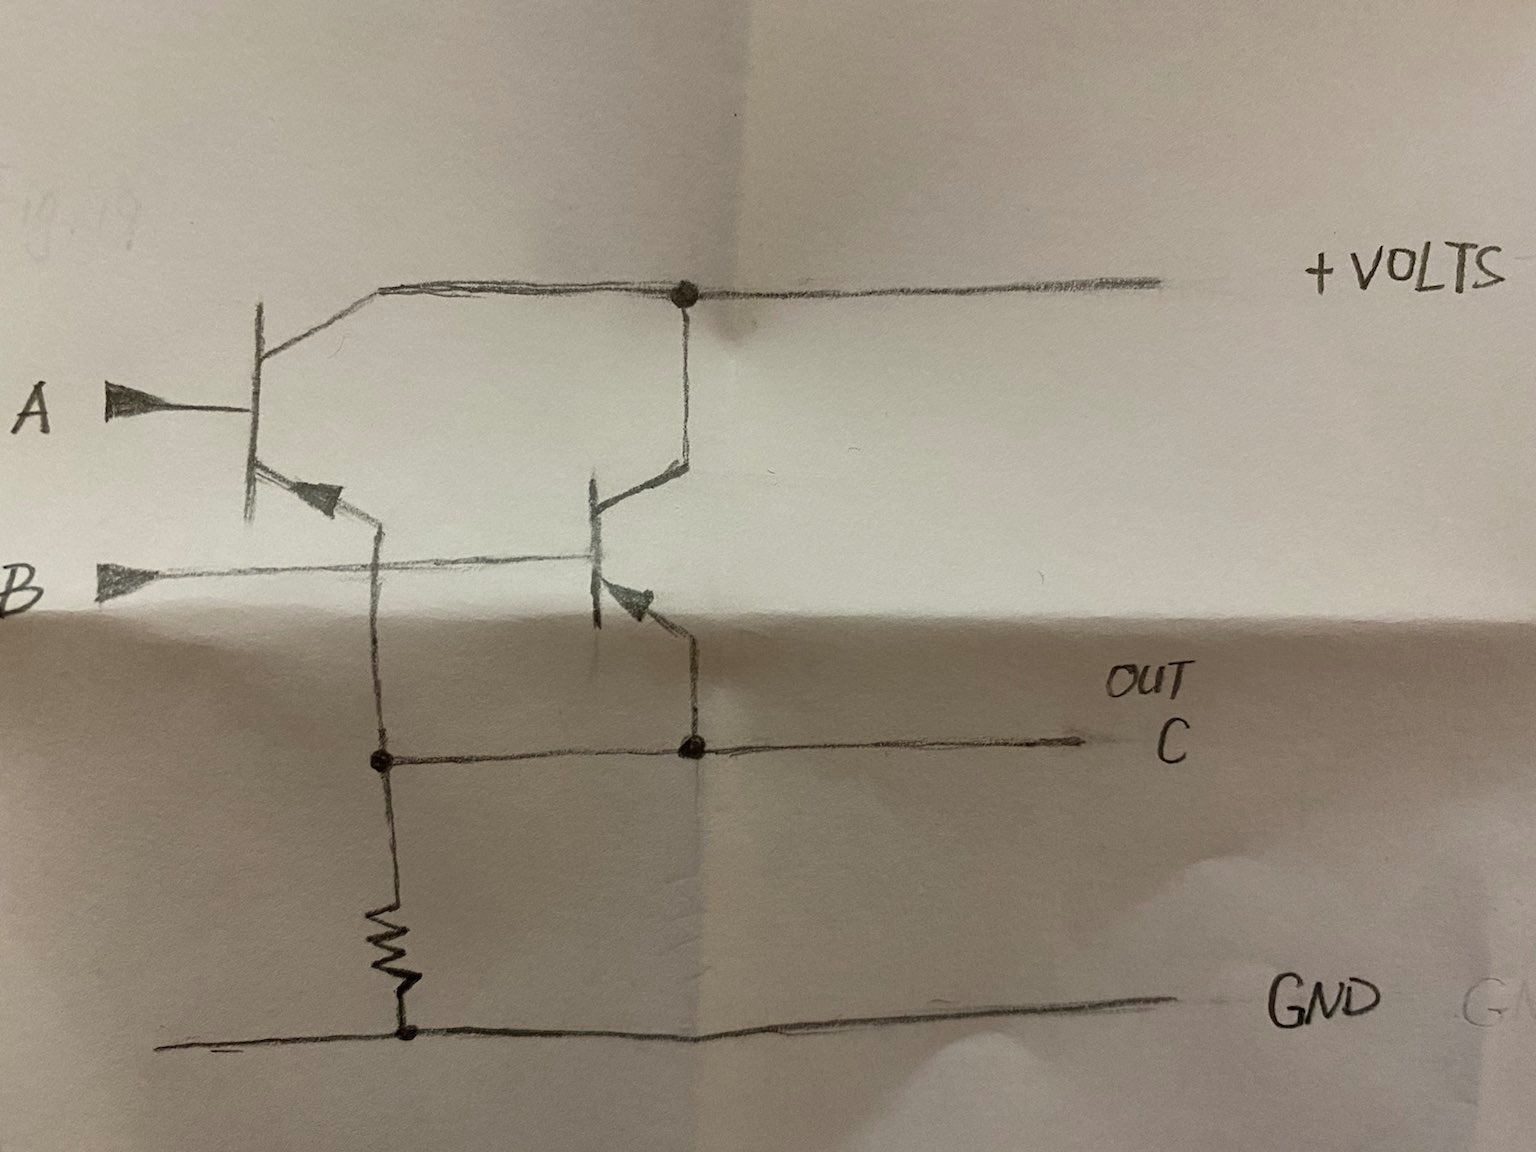crossover: (351, 549, 397, 587)
junction: (656, 264, 711, 319), (670, 715, 724, 772), (360, 738, 409, 783), (389, 1020, 423, 1044)
resistor: (360, 889, 427, 1002)
terminal: (89, 370, 184, 430), (89, 555, 187, 606), (135, 1021, 226, 1069), (1114, 977, 1200, 1021), (1126, 263, 1191, 305), (1035, 720, 1102, 758)
text: (1349, 238, 1515, 303), (1261, 961, 1386, 1037), (1097, 653, 1199, 703), (8, 371, 51, 445), (1, 557, 46, 622), (1299, 246, 1344, 303), (1154, 713, 1196, 770)
transistor: (233, 273, 416, 536), (577, 449, 716, 652)
